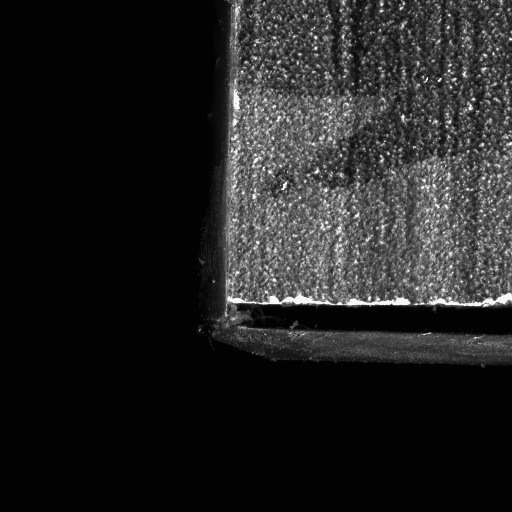kaijiao: (214, 292, 511, 372)
